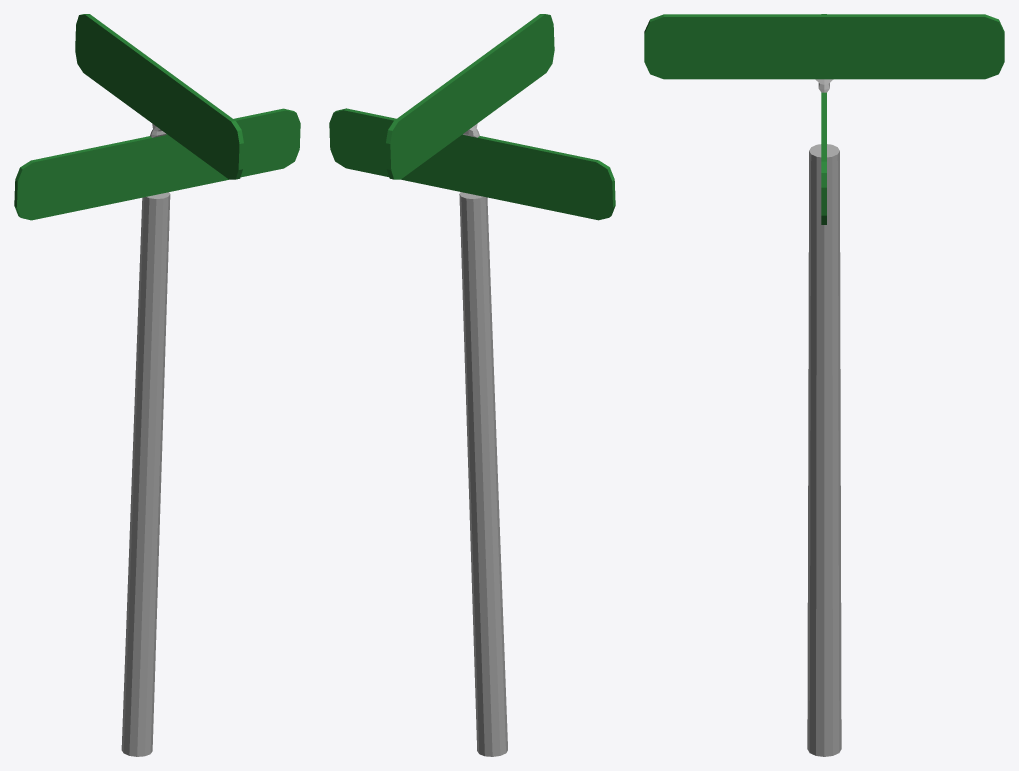
File: sign.glb
3 views of the same model, side by side, from view 1: azimuth 30°, elevation 25°; view 2: azimuth 150°, elevation 25°; view 3: azimuth 270°, elevation 25° (orthographic). The views are drawn at different scales.
Parts seen in each view (by area): view 1: Circle.001; view 2: Circle.001; view 3: Circle.001.
Part boxes in pixels (x1,y1,x2,y2): Circle.001: [14, 14, 300, 756]; Circle.001: [329, 14, 615, 756]; Circle.001: [644, 14, 1004, 756].
Bounding box in the file's own units: 2.54 × 5.79 × 2.53.
